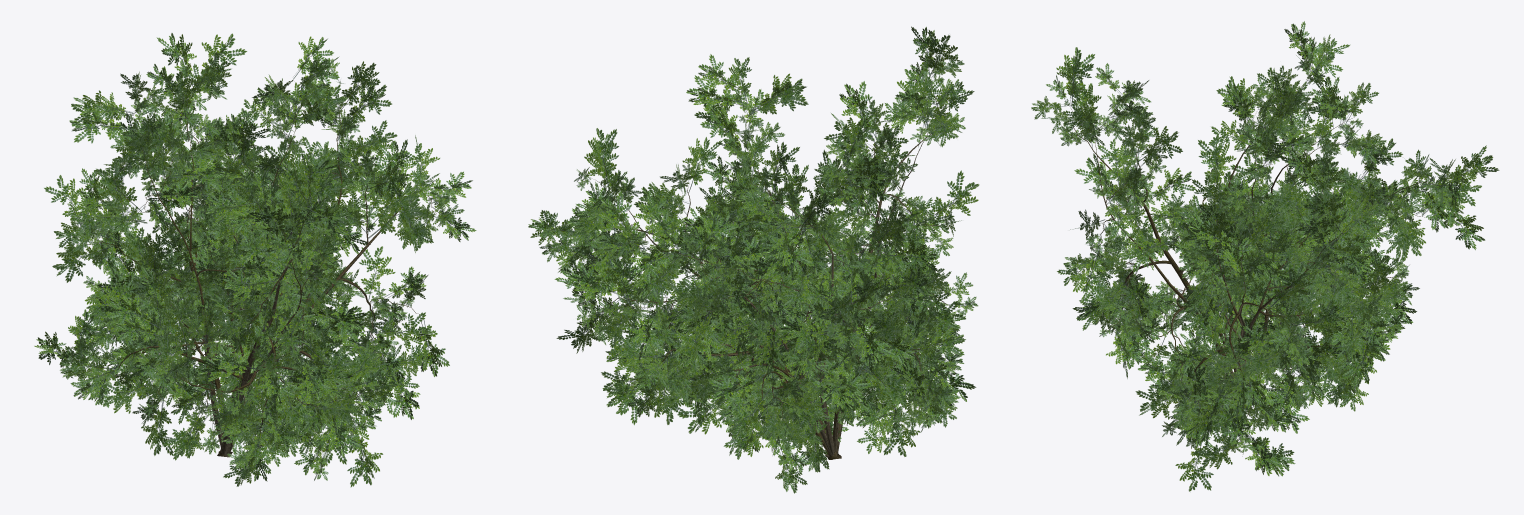
Rendered from trees_b.glb.
3 renders of one model, left to right at view 1: azimuth 30°, elevation 25°; view 2: azimuth 150°, elevation 25°; view 3: azimuth 270°, elevation 25°, orthographic. The views are drawn at different scales.
Parts seen in each view (by area): view 1: Mesh_1.005, Mesh_0.005; view 2: Mesh_1.005, Mesh_0.005; view 3: Mesh_1.005, Mesh_0.005.
Boxes of the visible parts, x1,y1,x2,y2 form: Mesh_1.005: (34, 33, 476, 487); Mesh_0.005: (83, 86, 438, 457); Mesh_1.005: (528, 26, 979, 493); Mesh_0.005: (573, 82, 949, 459); Mesh_1.005: (1031, 21, 1499, 491); Mesh_0.005: (1071, 68, 1439, 431).
Bounding box in the file's own units: 1.03 × 1 × 1.07.
2 materials, 2 textured.
